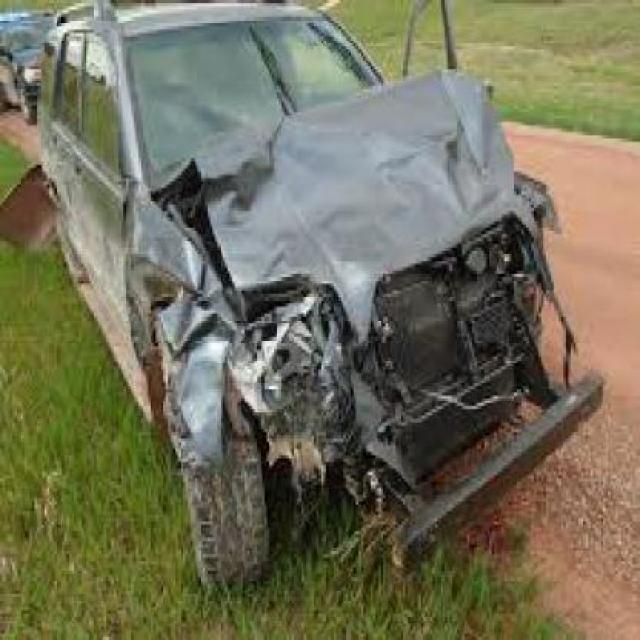damaged-hood: (145, 62, 544, 301)
